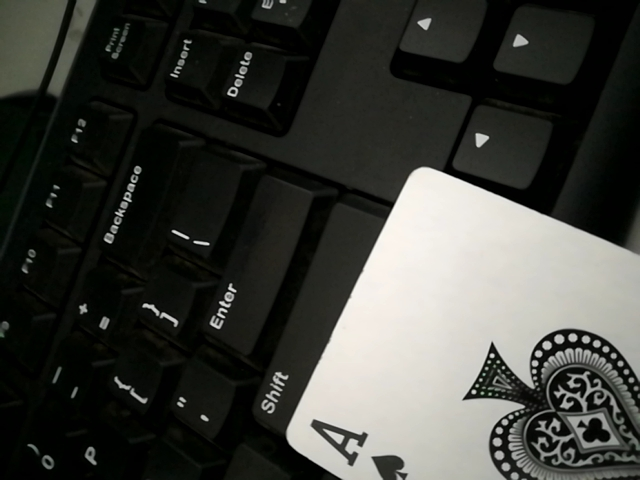ht a: (272, 162, 640, 480)
